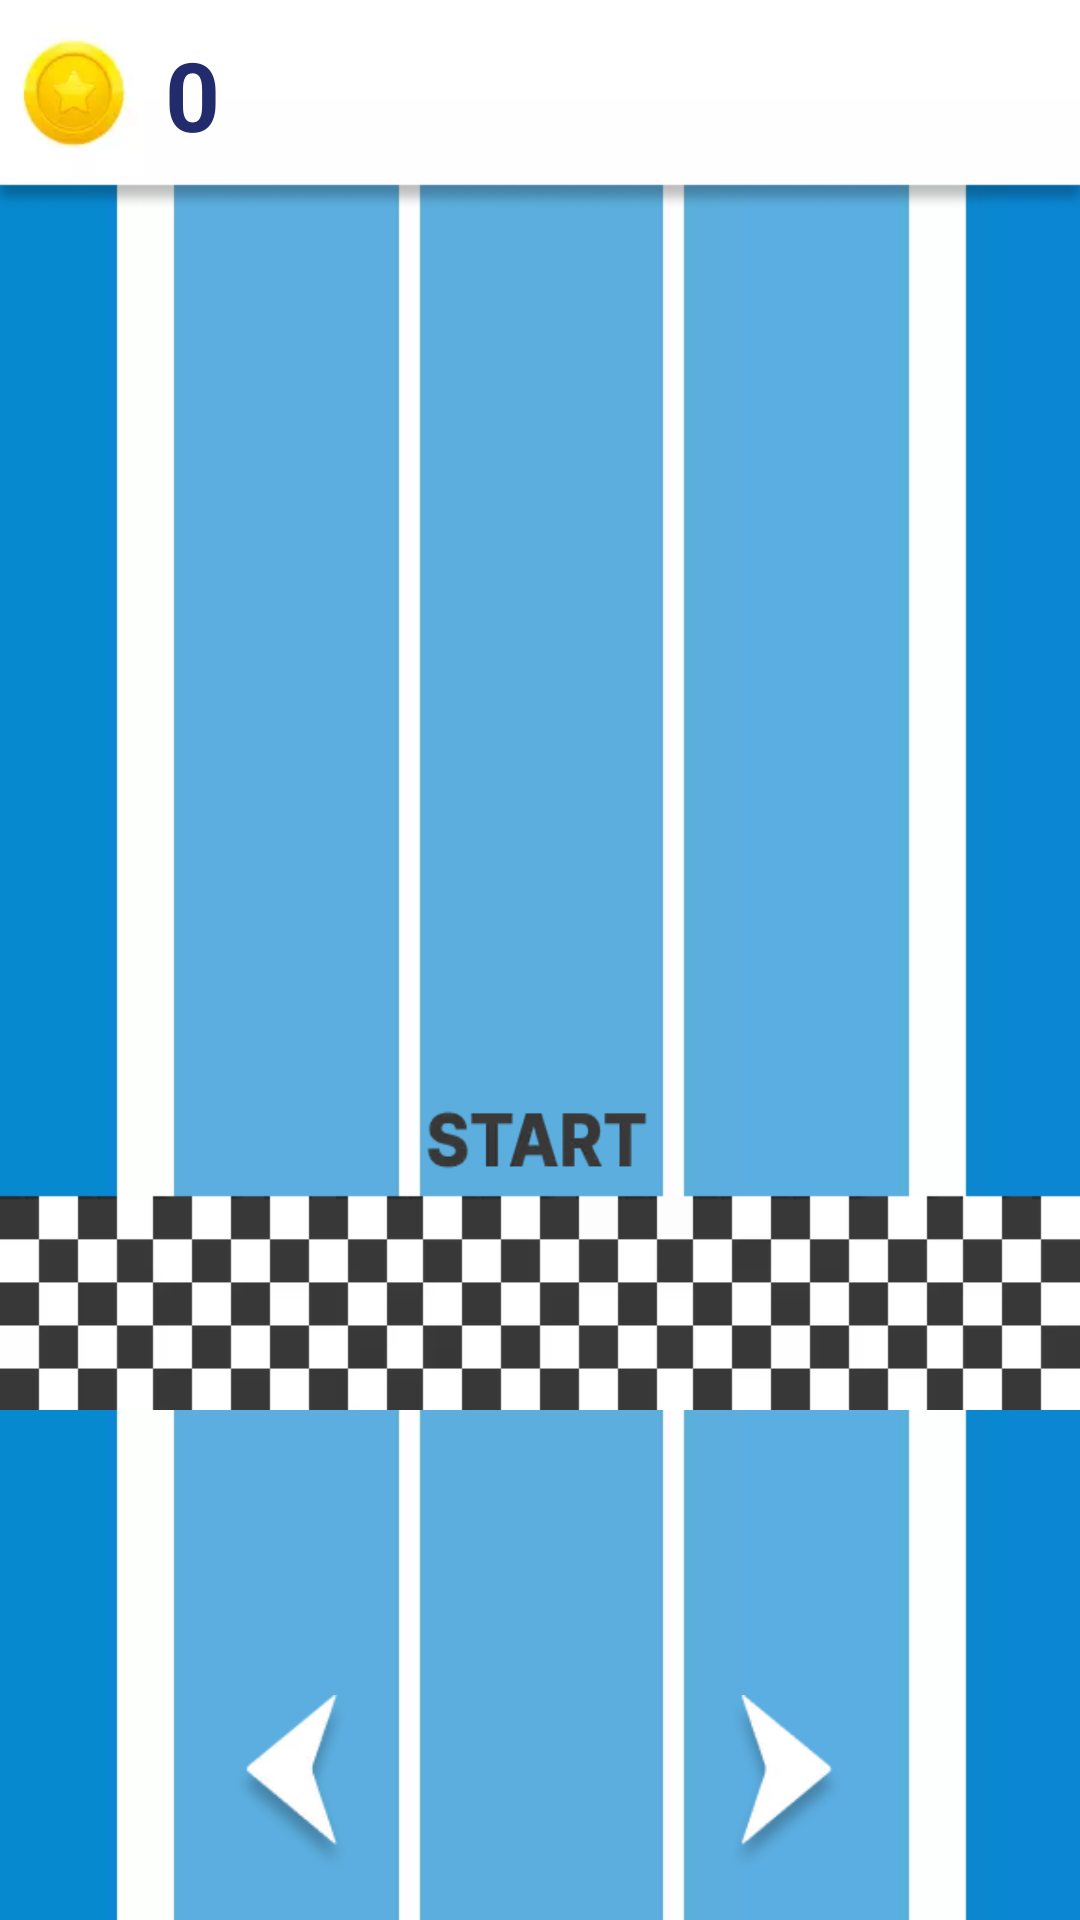

Locate icon controls on the screen. Image size 1080w x 1920h, boxes as (x1, y1, x2, y2).
left player: (246, 1695, 337, 1850)
right player: (741, 1695, 832, 1851)
